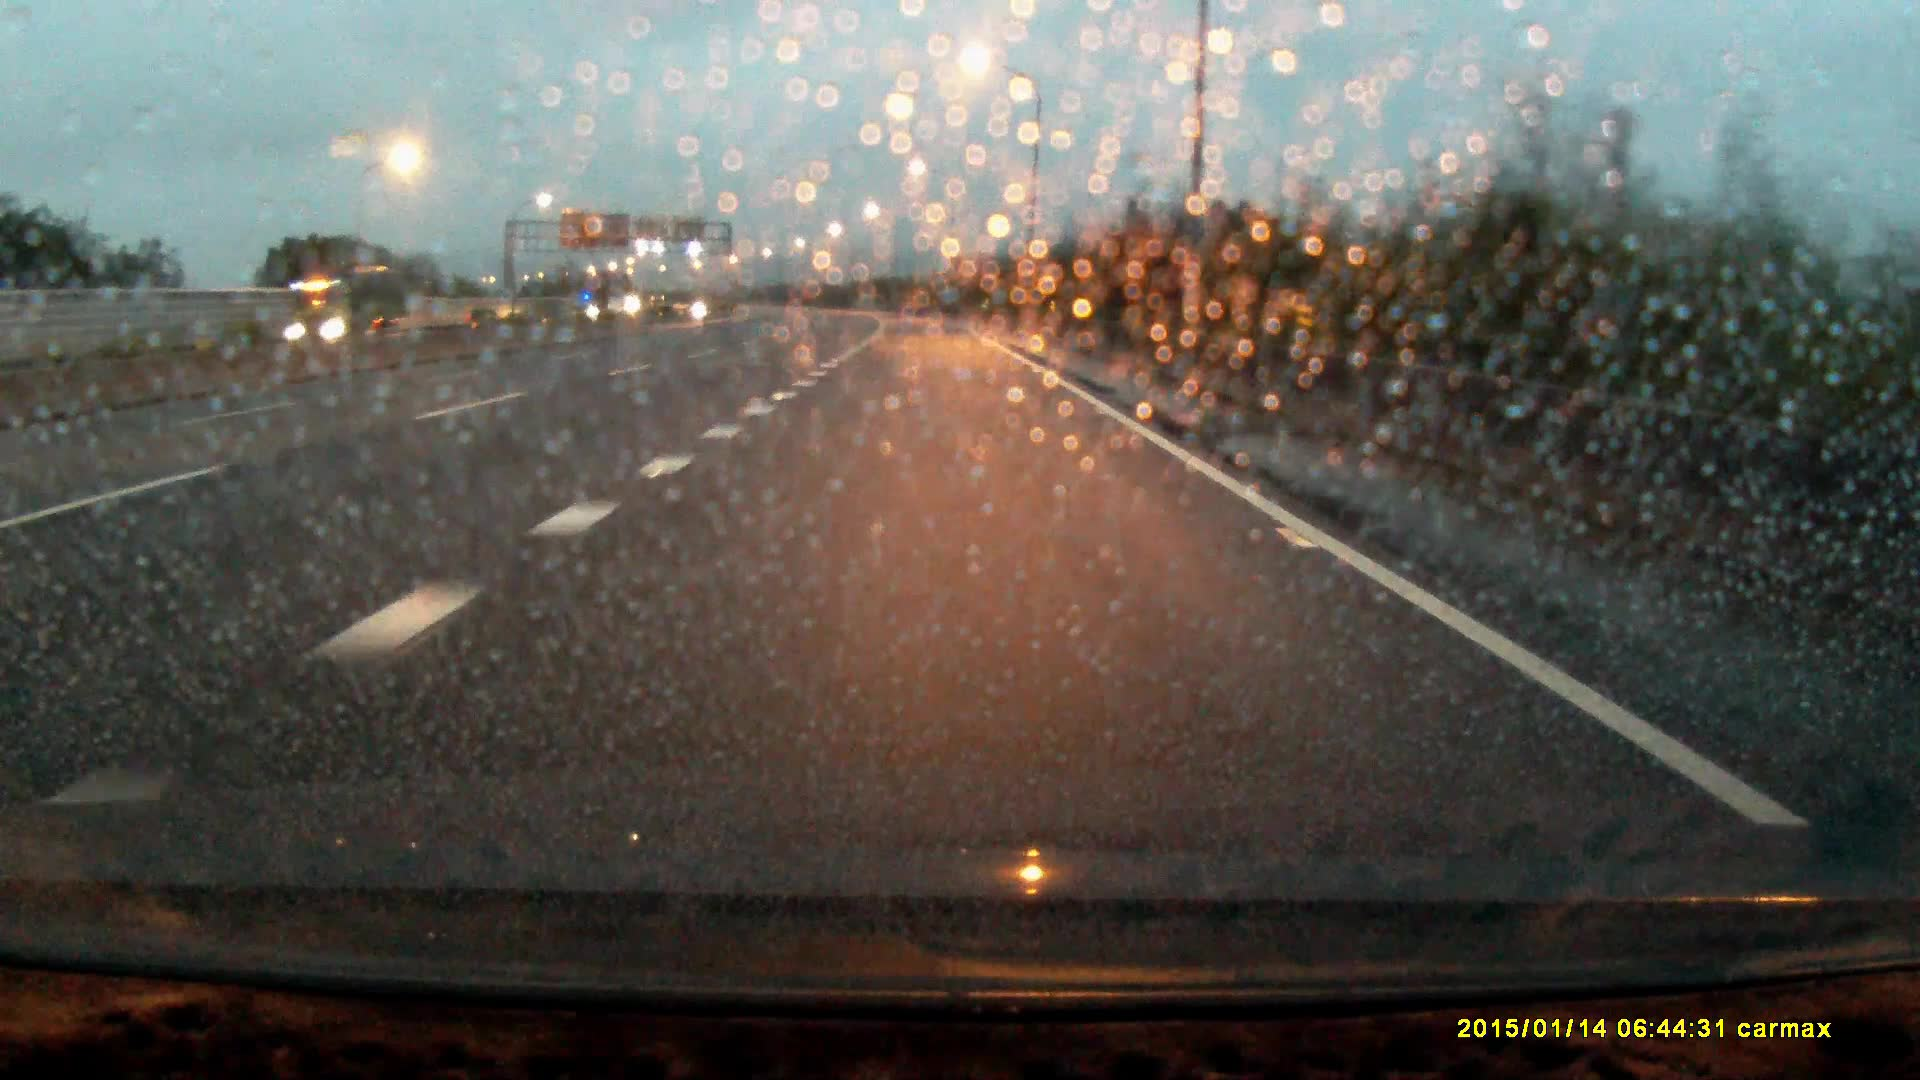vehicle: (281, 278, 393, 345)
